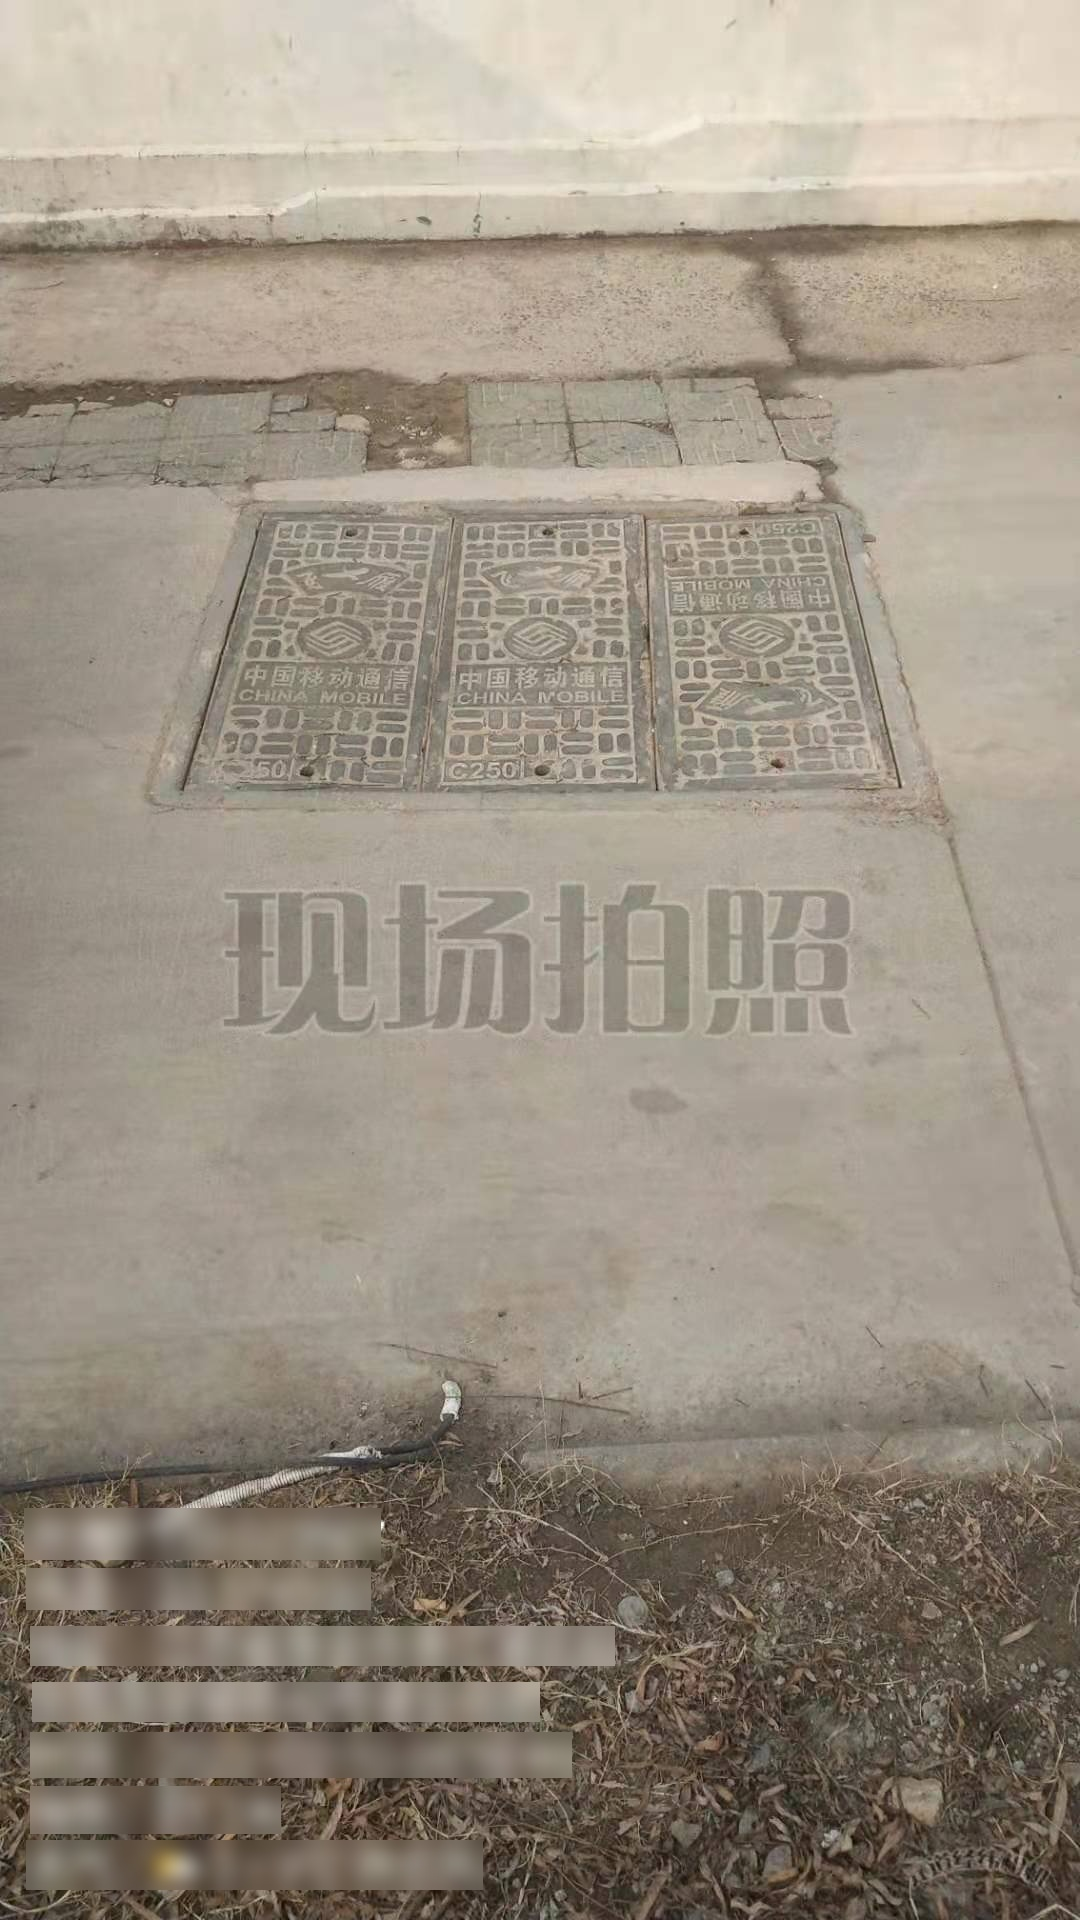good: (141, 498, 928, 814)
